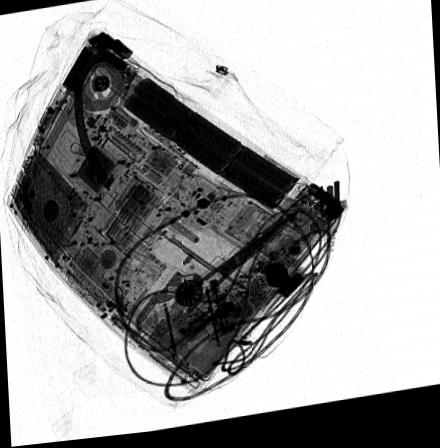Scissors: (180, 215, 297, 323)
